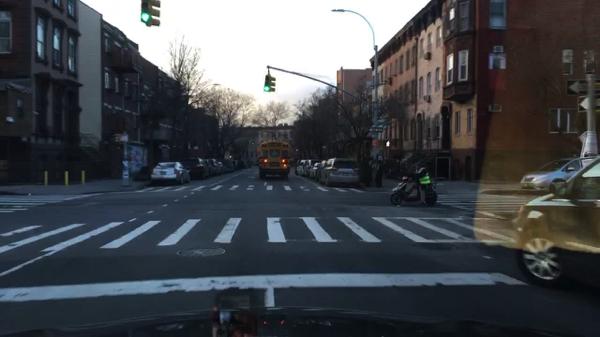bus: (256, 141, 289, 180)
car: (511, 156, 599, 288), (518, 158, 581, 194), (320, 157, 360, 187), (152, 162, 190, 185), (181, 158, 209, 181), (316, 160, 326, 181), (308, 163, 320, 180), (209, 160, 221, 176), (305, 160, 315, 176), (297, 160, 306, 177), (225, 158, 234, 174), (219, 161, 226, 173), (234, 160, 239, 169)
motor: (389, 176, 436, 207)
person: (364, 156, 374, 190), (375, 160, 384, 188)
rider: (405, 162, 429, 207)
traffic light: (151, 1, 160, 28), (140, 1, 150, 23), (264, 75, 270, 92), (270, 76, 276, 93), (121, 135, 131, 143), (381, 139, 389, 148), (372, 139, 380, 147), (112, 135, 119, 143), (248, 140, 251, 147), (252, 139, 254, 146)
traffic sign: (567, 80, 598, 96), (579, 98, 598, 113), (378, 123, 391, 127), (368, 128, 381, 132)
